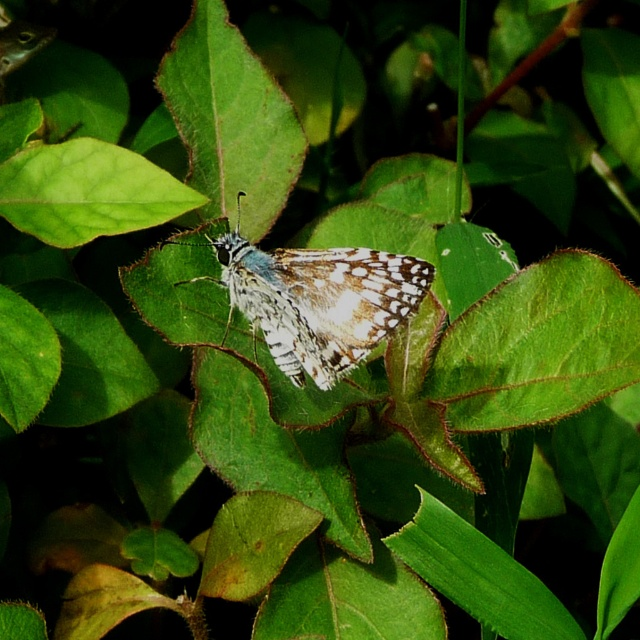Butterfly: (236, 218, 432, 409)
